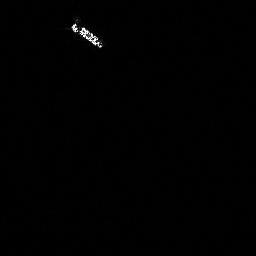ship: (67, 16, 107, 52)
